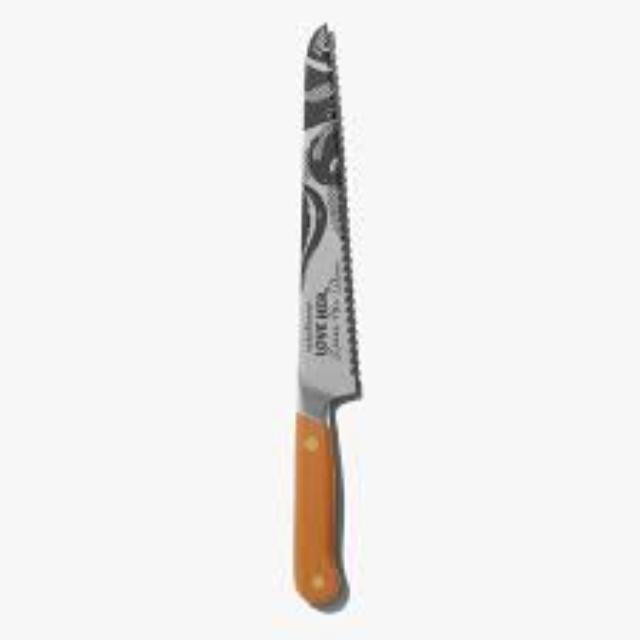Knife: (290, 21, 362, 612)
